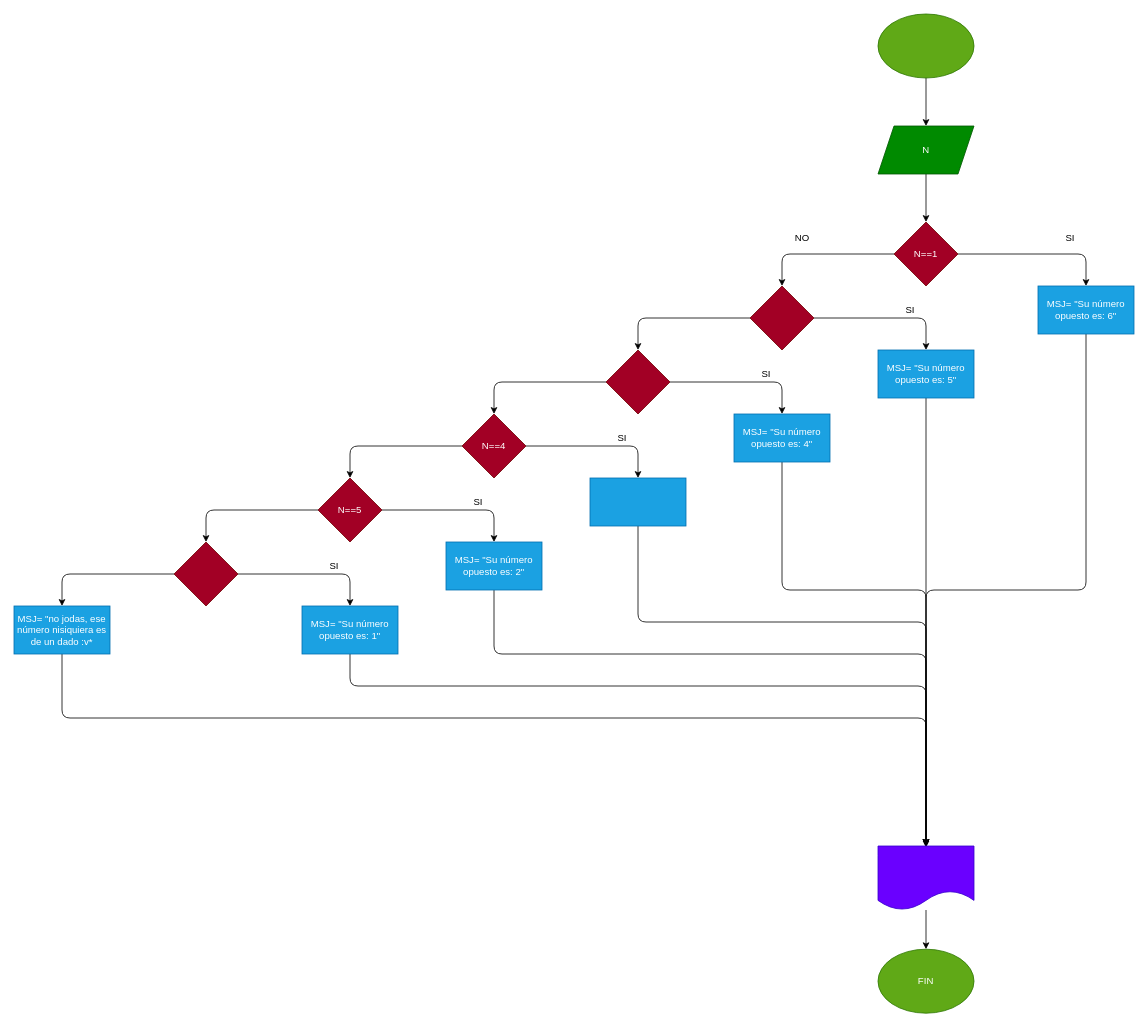
This 1148x1027 diagram has some shape labels left out. The shapes that lost their labels are listed below. From the top down, each one's box as (x1, y1, x2, y2) in pixels, then its label:
(877, 13, 974, 78): INICIO
(749, 285, 814, 350): N==2
(605, 349, 670, 414): N==3
(589, 477, 686, 526): MSJ= "Su número opuesto es: 3"
(173, 541, 238, 606): N==6
(877, 845, 974, 910): MSJ
